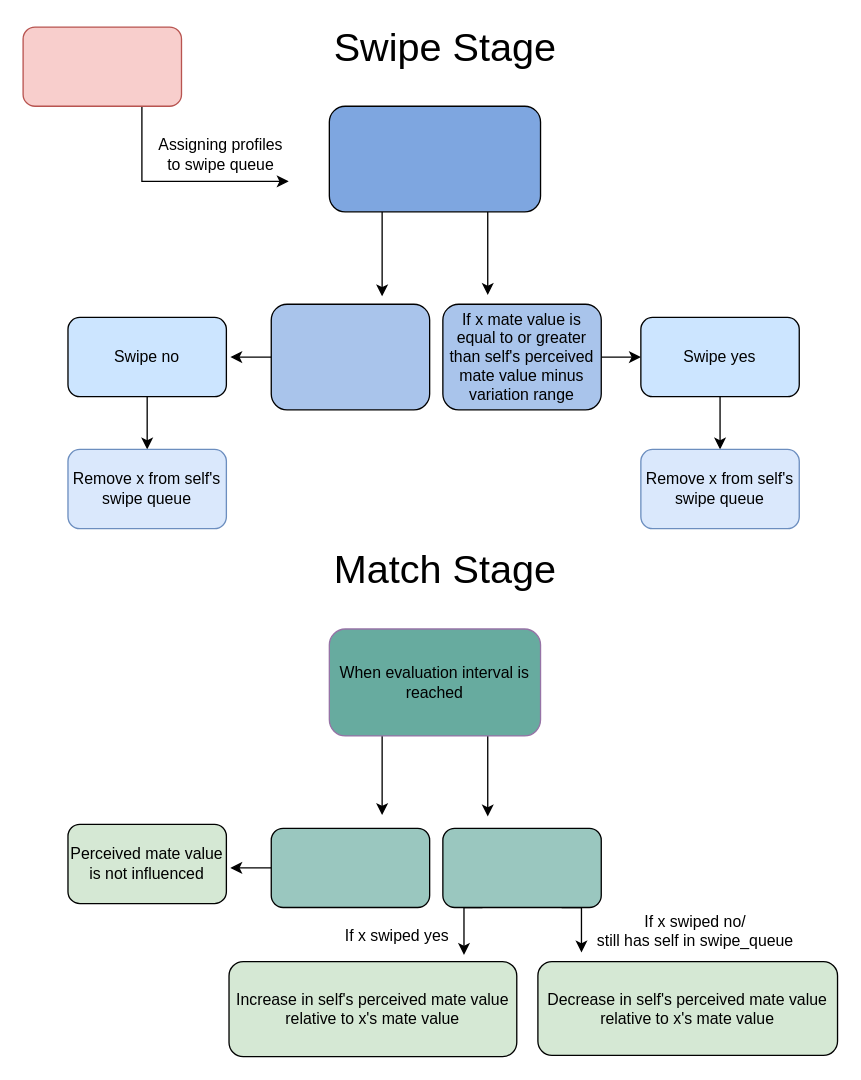
The diagram is 861 pixels wide and 1080 high, and some of its shapes have lost their labels. Here are the shapes that lost their labels. From the top down, the centre of each, then its label:
(102,66): Model
(434,158): Meeting profile "x" in swipe queue
(350,356): If x mate value is less than self's perceived mate value minus variation range
(350,867): Self swiped no to agent x
(521,867): Self swiped yes to agent x
